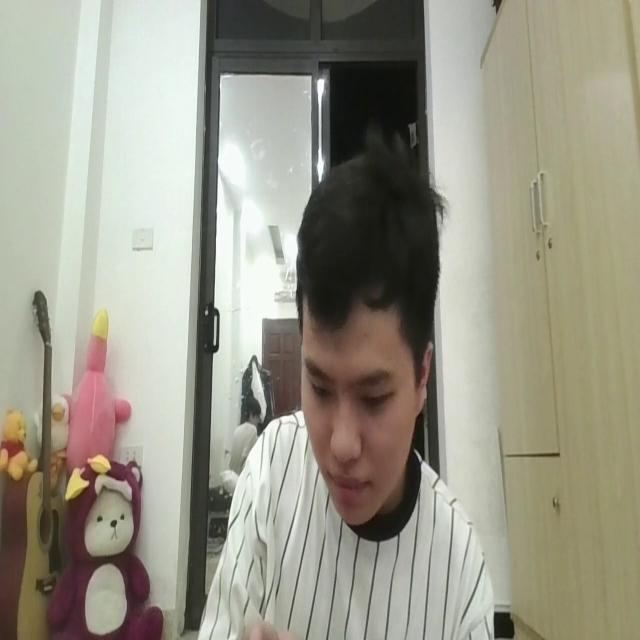student: (188, 139, 497, 640)
